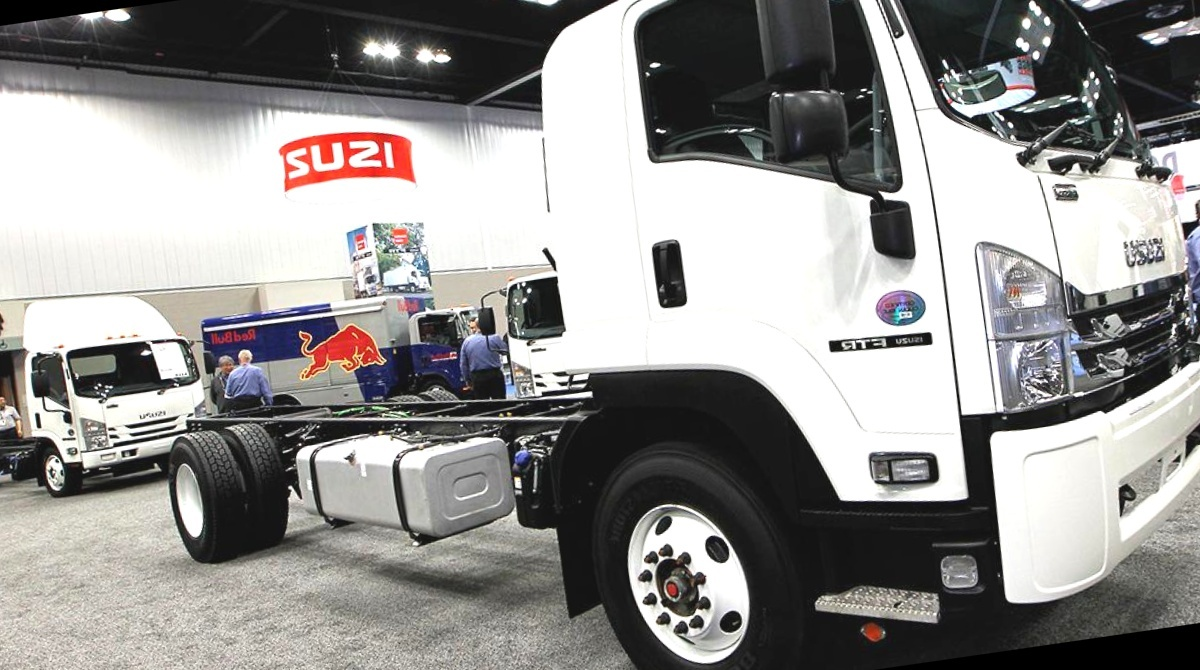truck: (103, 0, 1200, 670)
